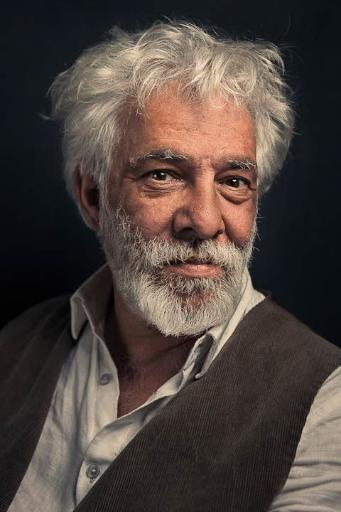left_eye: (219, 176, 251, 190)
left_lip_corner: (217, 262, 227, 271)
right_eye: (138, 168, 185, 186)
right_lip_corner: (162, 259, 175, 272)
